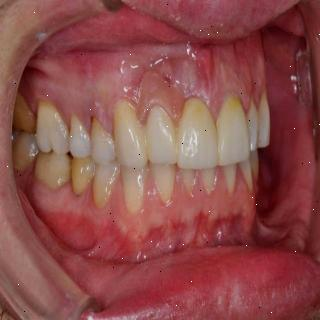LR1BC_decay: (92, 164, 119, 206)
LR1M_healthy: (35, 152, 71, 189)
LR2BC_decay: (70, 157, 93, 192)
LR2M_decay: (13, 134, 36, 174)
LRC_healthy: (120, 165, 146, 209)
LRLI_healthy: (152, 165, 176, 201)
ULCI_decay: (217, 95, 251, 166)
ULC_healthy: (259, 93, 271, 146)
ULLI_healthy: (246, 101, 258, 153)
UR1BC_decay: (88, 116, 116, 164)
UR1M_decay: (35, 101, 69, 154)
UR2BC_decay: (68, 115, 91, 158)
UR2M_decay: (13, 92, 36, 133)
URCI_decay: (177, 96, 219, 168)
URC_healthy: (111, 102, 147, 166)
URLI_healthy: (144, 105, 178, 165)
